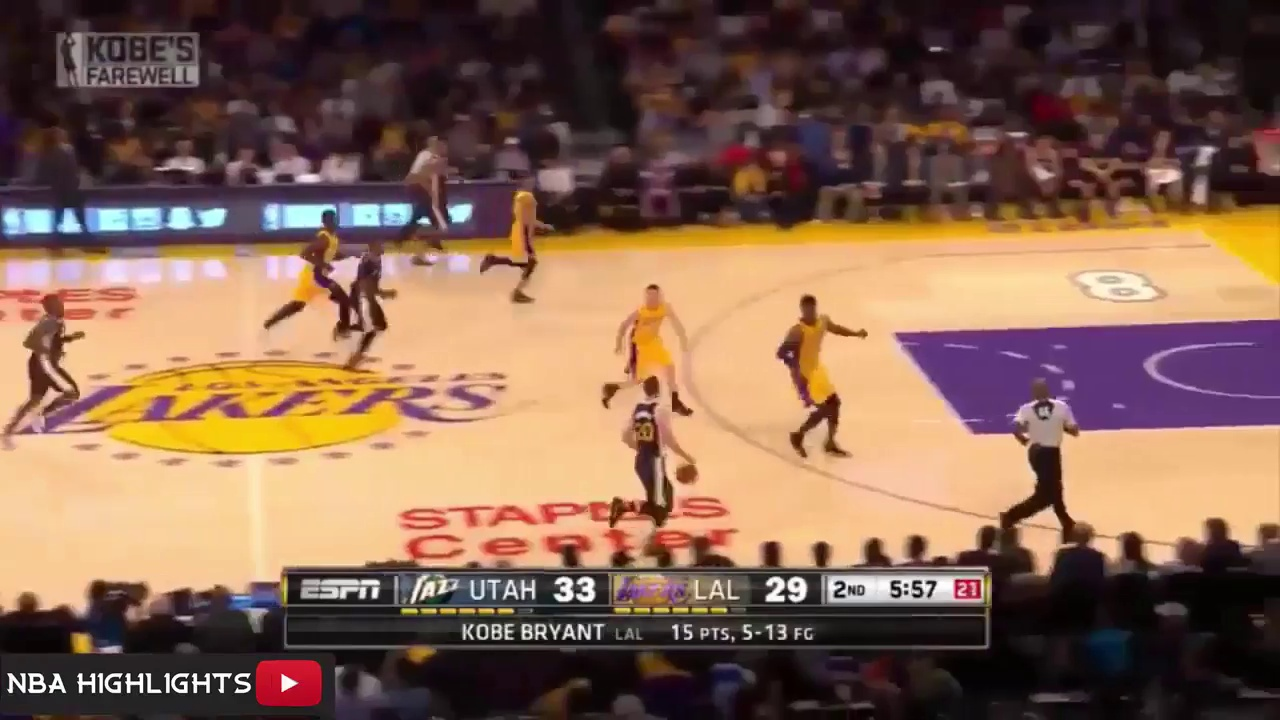jazz: (604, 380, 697, 537), (1, 278, 80, 456), (338, 227, 409, 369), (397, 144, 465, 275)
lakers: (771, 278, 881, 466), (269, 203, 363, 355), (605, 280, 691, 404), (478, 177, 549, 312)
